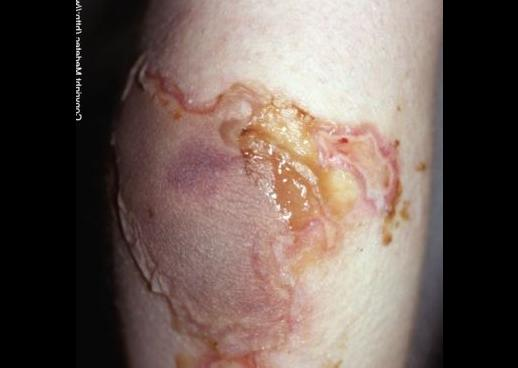NonPU: (117, 39, 415, 368)
